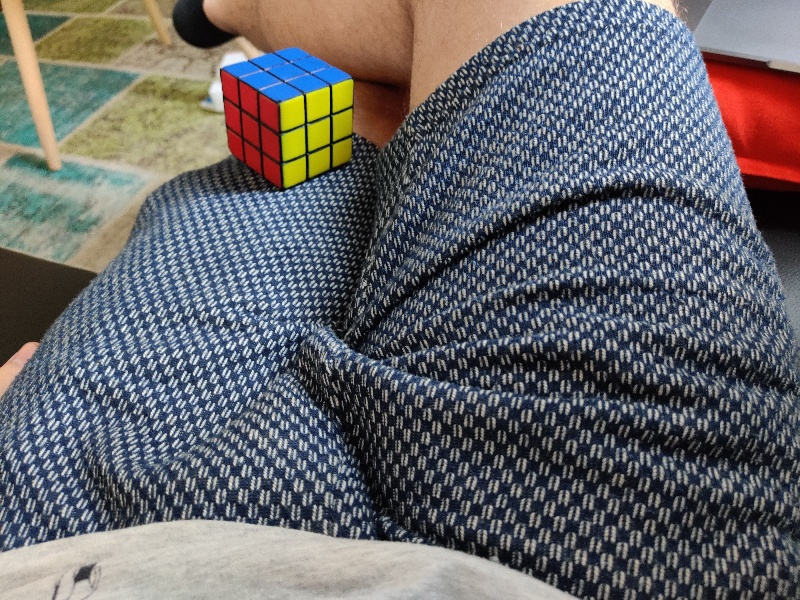rubik: (219, 46, 355, 187)
